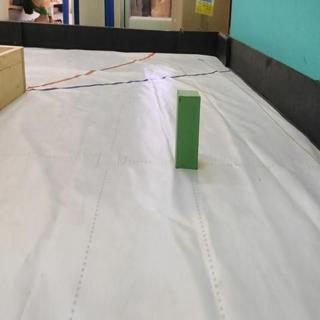greenbox: (177, 89, 201, 168)
